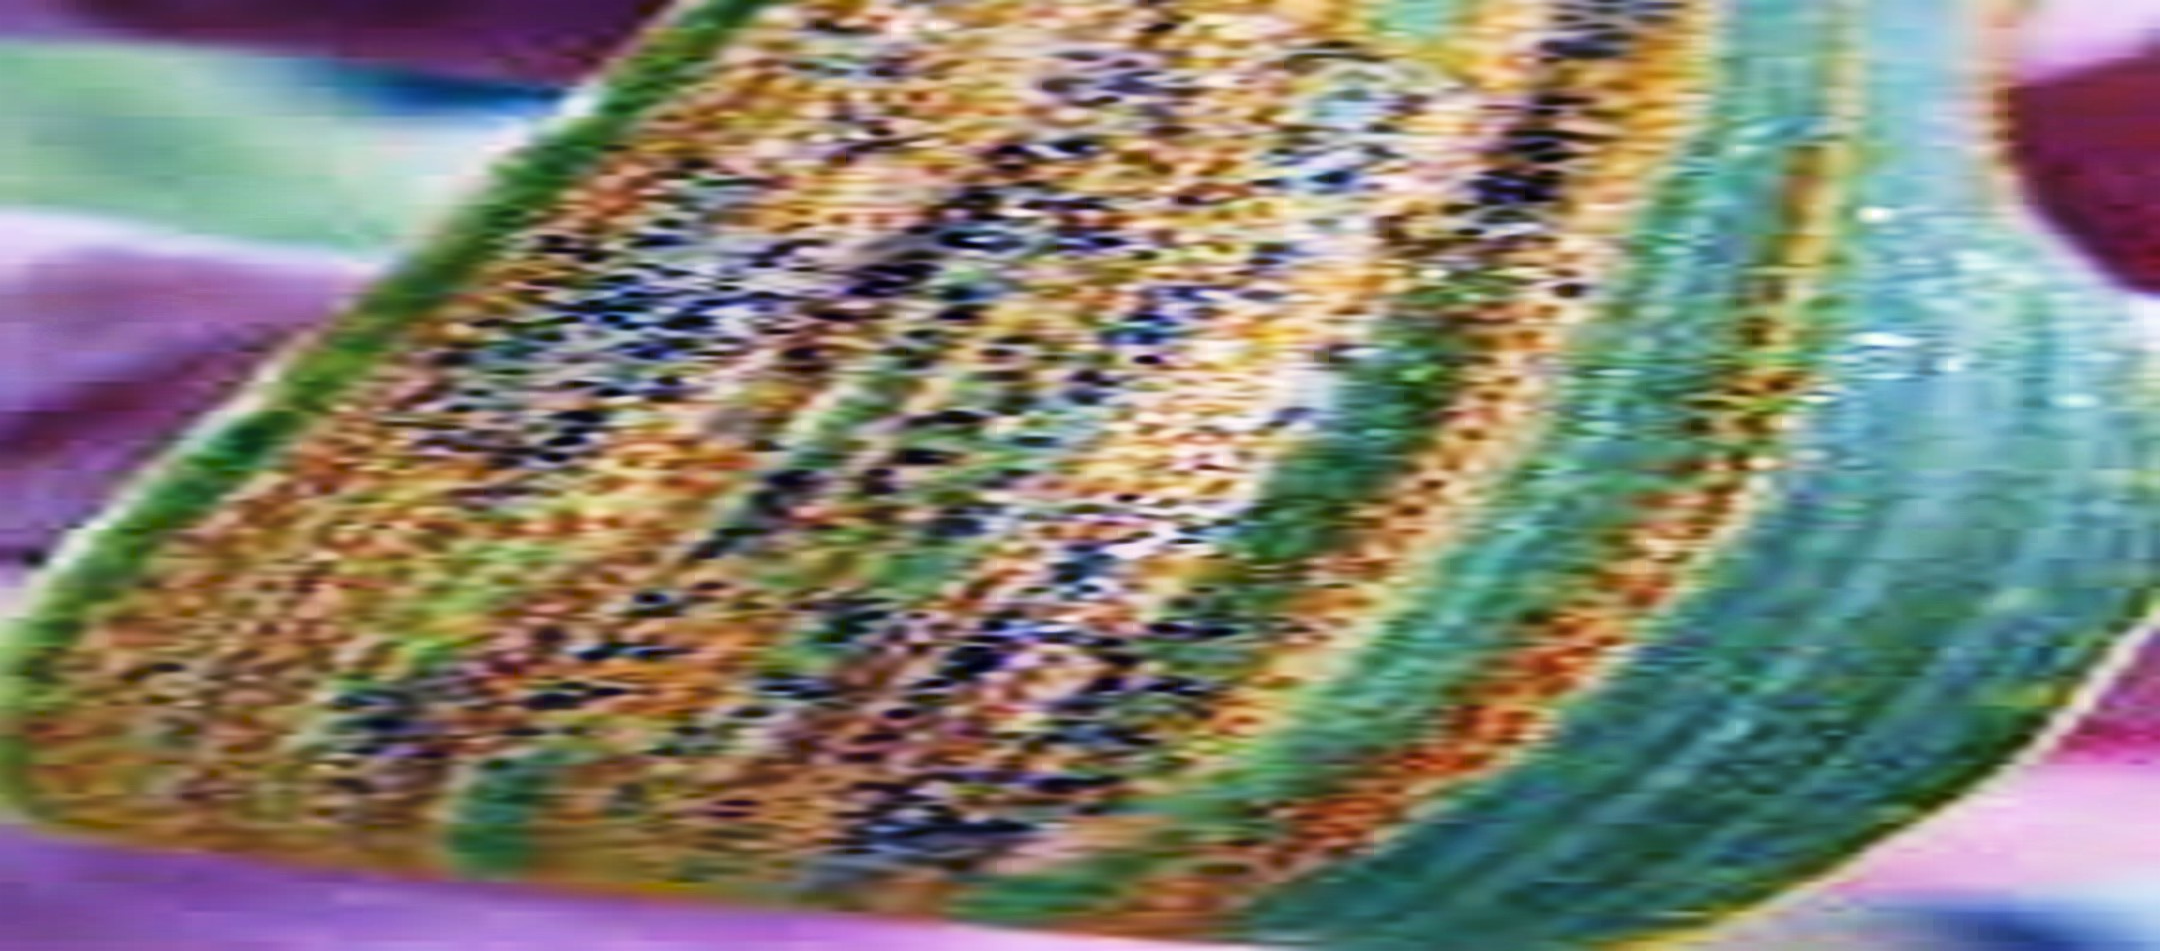Leaf Rust: (215, 81, 1856, 866)
